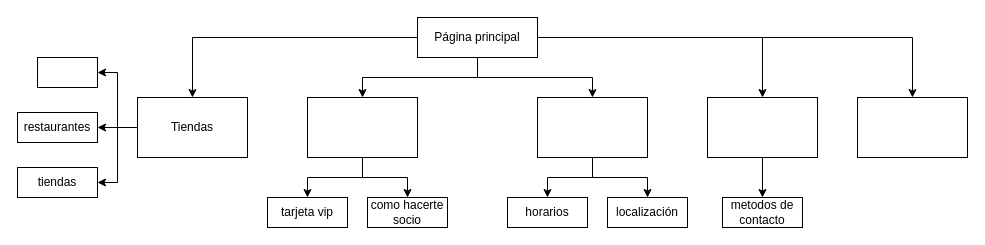
Some shapes in this 985 by 245 pixel diagram are drawn without their labels. Each missing label, with the centre of its shape:
Contacto: (x=762, y=127)
Info legal: (x=912, y=127)
ocio: (x=67, y=72)
Sobre el centro comercial: (x=592, y=127)
Socios: (x=362, y=127)
